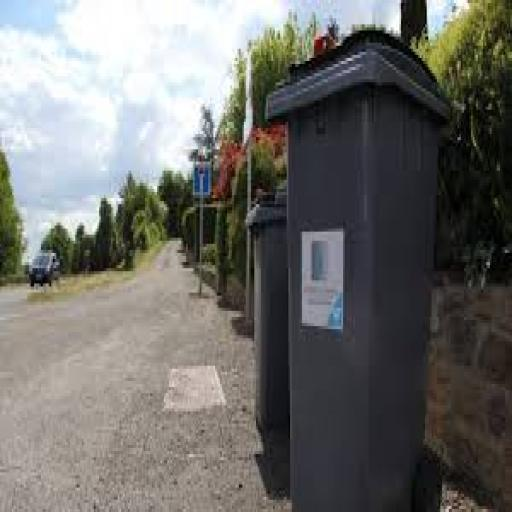poubelle_vide: (254, 50, 458, 512)
